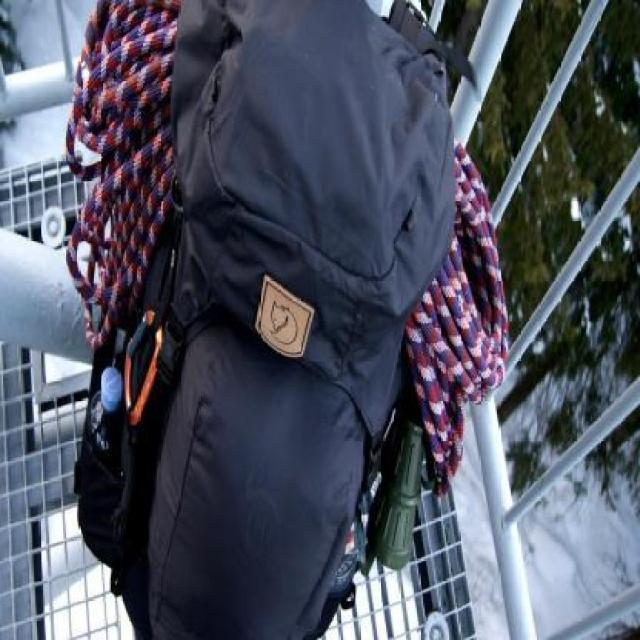backpack: (71, 0, 458, 640)
